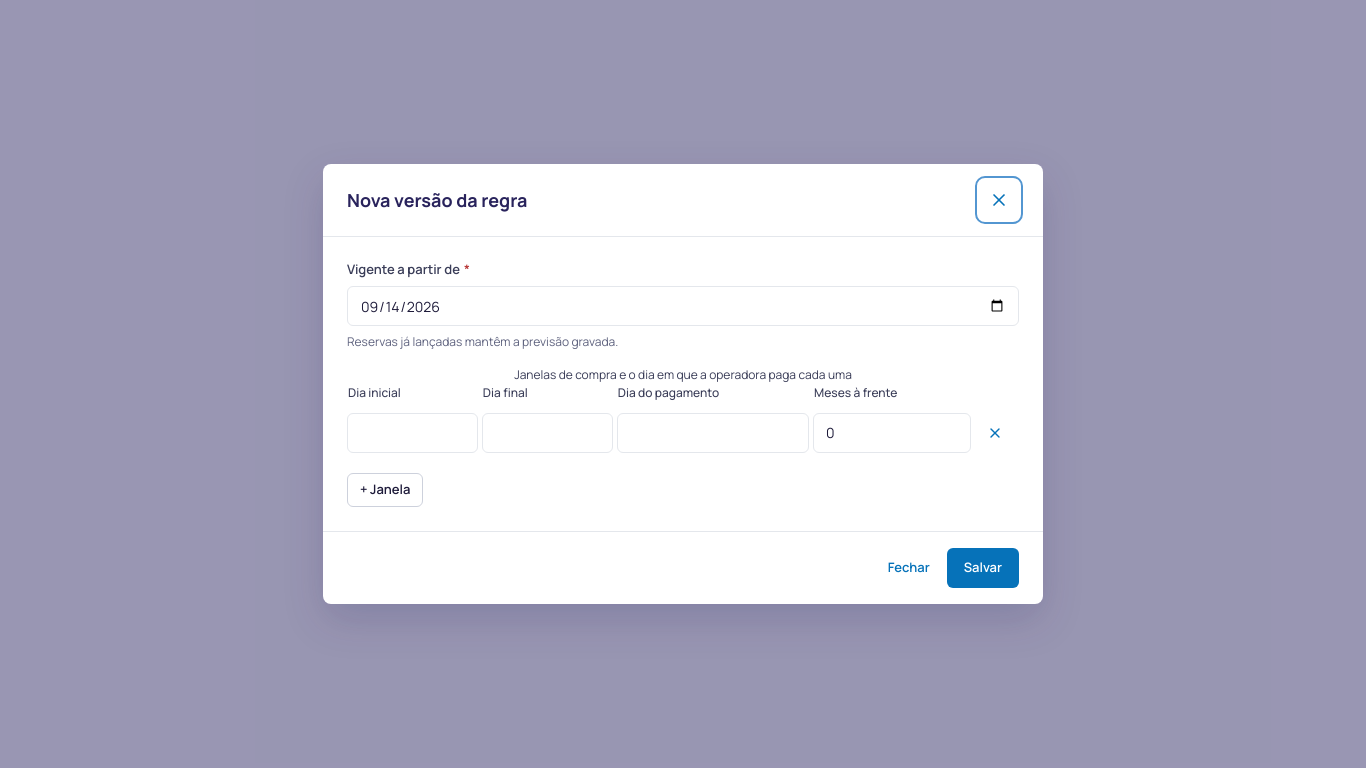
it: janela sem dias preenchidos também é barrada localmente
The image size is (1366, 768).
Click the button "Salvar" at (983, 568), box [947,548,1019,588]
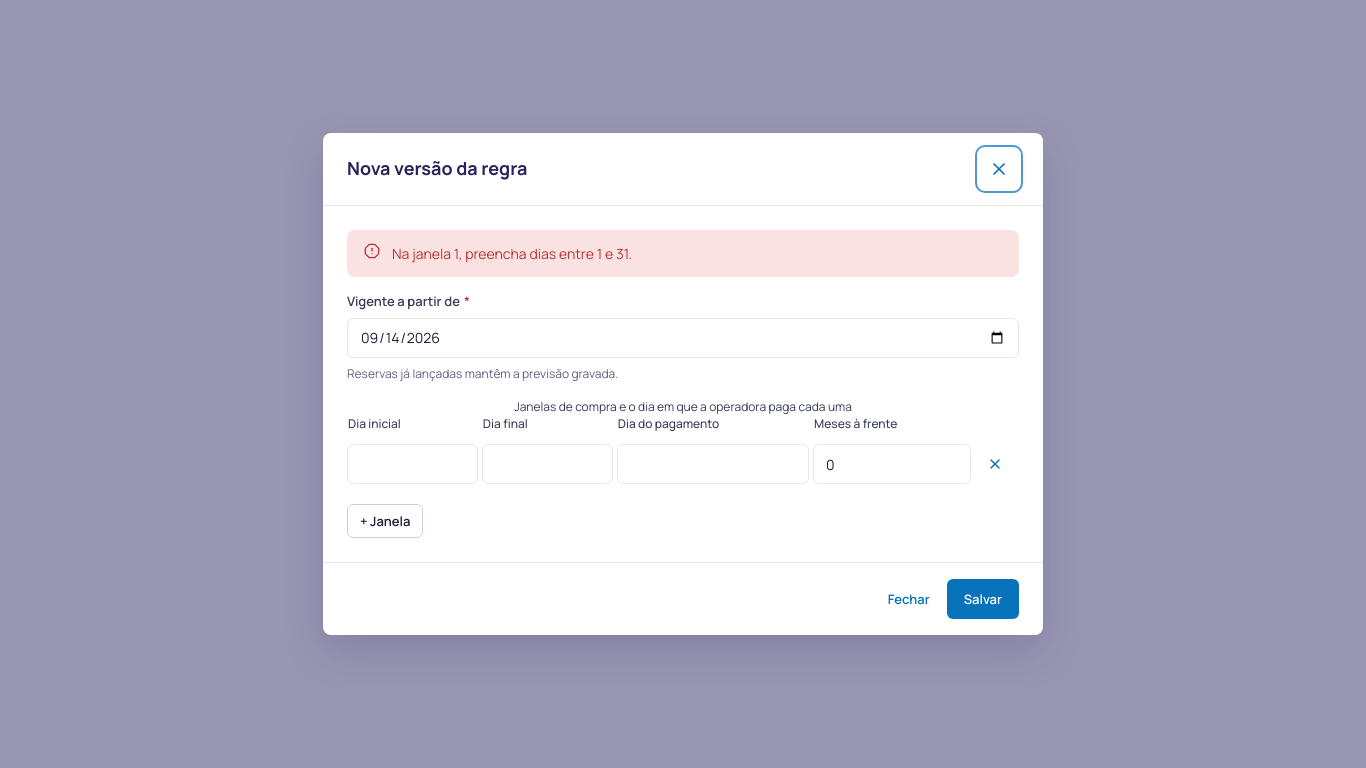
Check: the text "Na janela 1, preencha dias entre 1 e 31." is shown, box [392,244,632,263]
